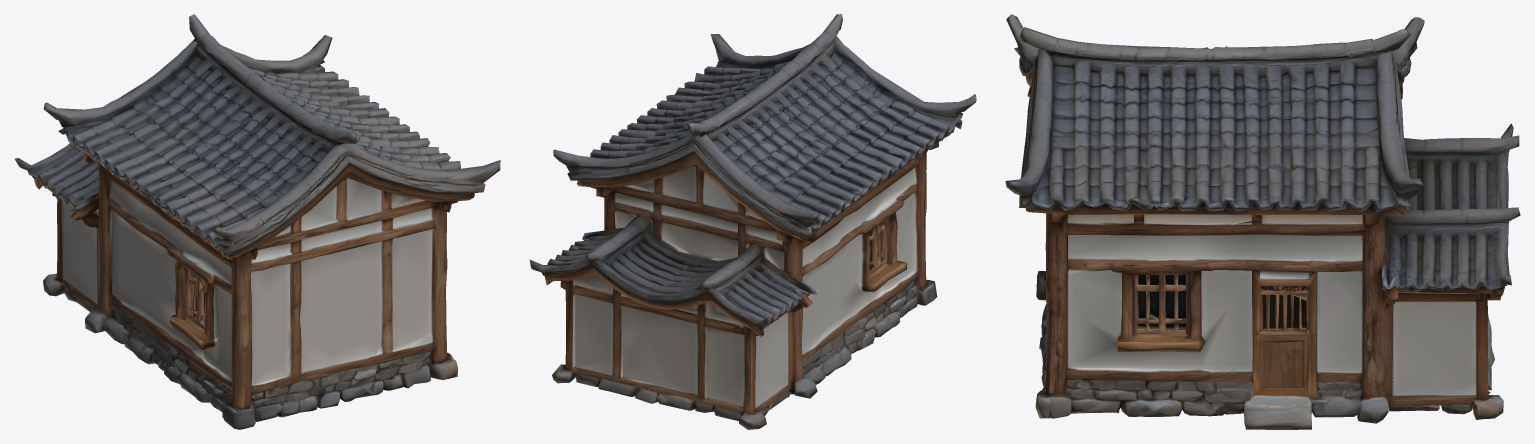
File: test-house.glb
3 views of the same model, side by side, from view 1: azimuth 30°, elevation 25°; view 2: azimuth 150°, elevation 25°; view 3: azimuth 270°, elevation 25° (orthographic). The views are drawn at different scales.
Visible parts, largest first — view 1: tripo_node_b424999f-54d7-47cc-bf5d-75c6df4c1775; view 2: tripo_node_b424999f-54d7-47cc-bf5d-75c6df4c1775; view 3: tripo_node_b424999f-54d7-47cc-bf5d-75c6df4c1775.
Boxes of the visible parts, bbox=[...] form: tripo_node_b424999f-54d7-47cc-bf5d-75c6df4c1775: bbox=[14, 14, 500, 429]; tripo_node_b424999f-54d7-47cc-bf5d-75c6df4c1775: bbox=[529, 14, 976, 429]; tripo_node_b424999f-54d7-47cc-bf5d-75c6df4c1775: bbox=[1005, 14, 1520, 429].
Bounding box in the file's own units: 0.7641 × 0.7029 × 1.
Materials: 1 (1 with a texture image).
